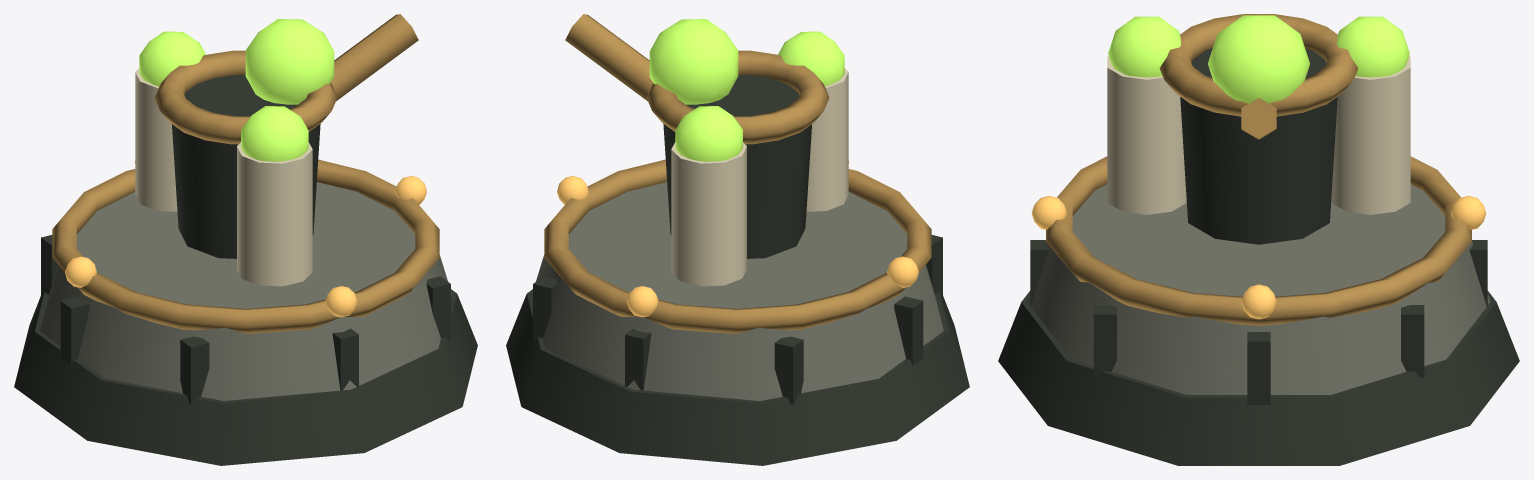
File: tower_poison_poisonGland.glb
3 renders of one model, left to right at view 1: azimuth 30°, elevation 25°; view 2: azimuth 150°, elevation 25°; view 3: azimuth 270°, elevation 25°, orthographic. The views are drawn at different scales.
Parts seen in each view (by area): view 1: stone_1, foot_0, rim_2, vessel_15, flask_20, gland_19, vessel_lip_17, flask_22, needle_18, poison_reservoir_21, poison_reservoir_23, mortar_6 (+7 smaller); view 2: stone_1, foot_0, rim_2, vessel_15, flask_22, gland_19, vessel_lip_17, flask_20, needle_18, poison_reservoir_23, poison_reservoir_21, mortar_8 (+7 smaller); view 3: stone_1, foot_0, vessel_15, rim_2, flask_20, flask_22, vessel_lip_17, gland_19, poison_reservoir_21, poison_reservoir_23, mortar_3, mortar_4 (+7 smaller).
Part boxes in pixels (x1=…): stone_1: x1=40, y1=182, x2=451, y2=400; foot_0: x1=14, y1=289, x2=477, y2=465; rim_2: x1=52, y1=159, x2=439, y2=333; vessel_15: x1=172, y1=75, x2=320, y2=258; flask_20: x1=237, y1=142, x2=312, y2=286; gland_19: x1=245, y1=19, x2=334, y2=104; vessel_lip_17: x1=154, y1=50, x2=337, y2=144; flask_22: x1=135, y1=68, x2=177, y2=211; needle_18: x1=330, y1=14, x2=418, y2=101; poison_reservoir_21: x1=241, y1=106, x2=308, y2=161; poison_reservoir_23: x1=139, y1=31, x2=205, y2=86; mortar_6: x1=180, y1=336, x2=209, y2=404; stone_1: x1=532, y1=182, x2=943, y2=400; foot_0: x1=506, y1=289, x2=969, y2=465; rim_2: x1=544, y1=159, x2=931, y2=333; vessel_15: x1=663, y1=75, x2=811, y2=258; flask_22: x1=671, y1=142, x2=746, y2=286; gland_19: x1=649, y1=19, x2=738, y2=104; vessel_lip_17: x1=646, y1=50, x2=829, y2=144; flask_20: x1=806, y1=68, x2=848, y2=211; needle_18: x1=565, y1=14, x2=653, y2=101; poison_reservoir_23: x1=675, y1=106, x2=742, y2=161; poison_reservoir_21: x1=778, y1=31, x2=844, y2=86; mortar_8: x1=774, y1=336, x2=803, y2=404; stone_1: x1=1027, y1=184, x2=1490, y2=394; foot_0: x1=998, y1=291, x2=1519, y2=465; vessel_15: x1=1180, y1=48, x2=1337, y2=244; rim_2: x1=1046, y1=156, x2=1471, y2=325; flask_20: x1=1107, y1=56, x2=1186, y2=214; flask_22: x1=1331, y1=56, x2=1410, y2=214; vessel_lip_17: x1=1159, y1=14, x2=1358, y2=116; gland_19: x1=1208, y1=15, x2=1309, y2=103; poison_reservoir_21: x1=1108, y1=16, x2=1180, y2=77; poison_reservoir_23: x1=1337, y1=16, x2=1409, y2=77; mortar_3: x1=1247, y1=332, x2=1270, y2=404; mortar_4: x1=1093, y1=305, x2=1116, y2=377.
Bounding box in the file's own units: 0.5326 × 0.435 × 0.56.
